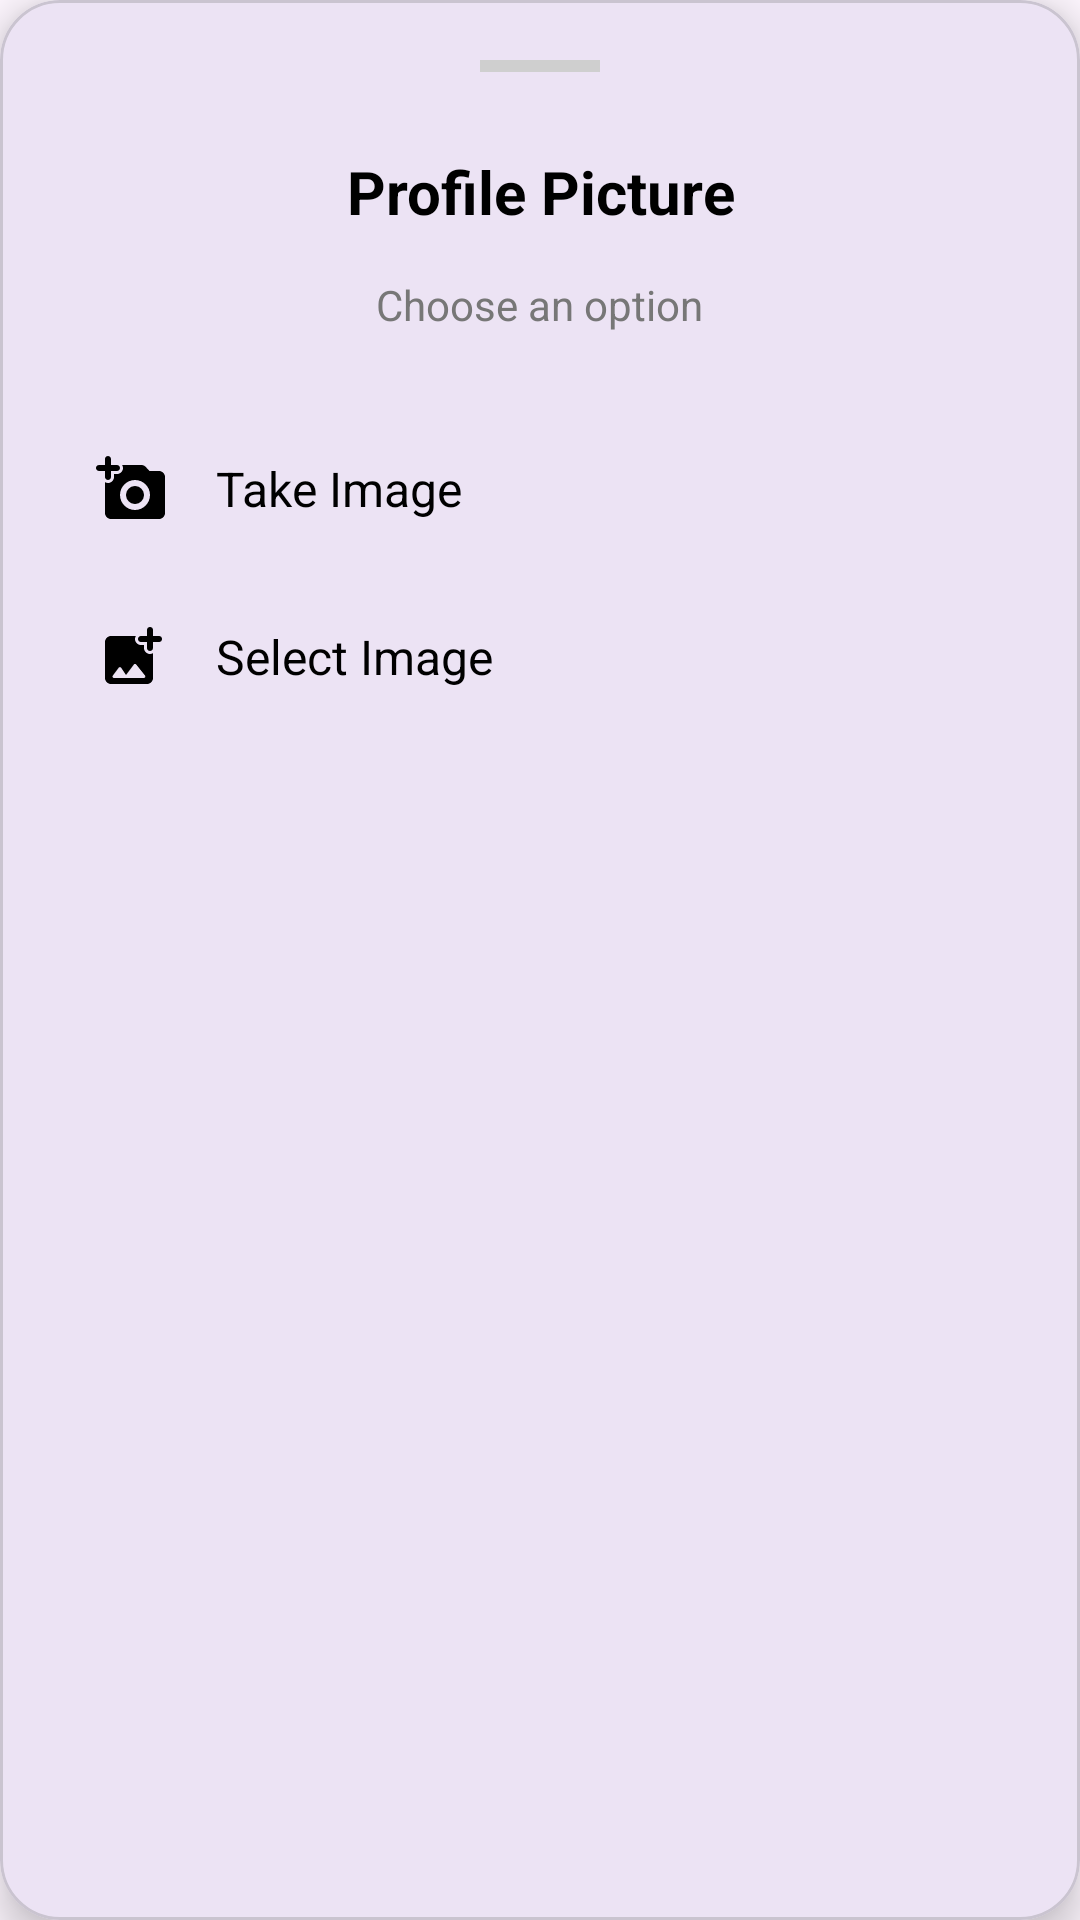

Point at icon controls on the screen. Image size 1080 × 1920, points as point (x, y).
add photo: point (130, 487)
add photo alternate: point (133, 655)
